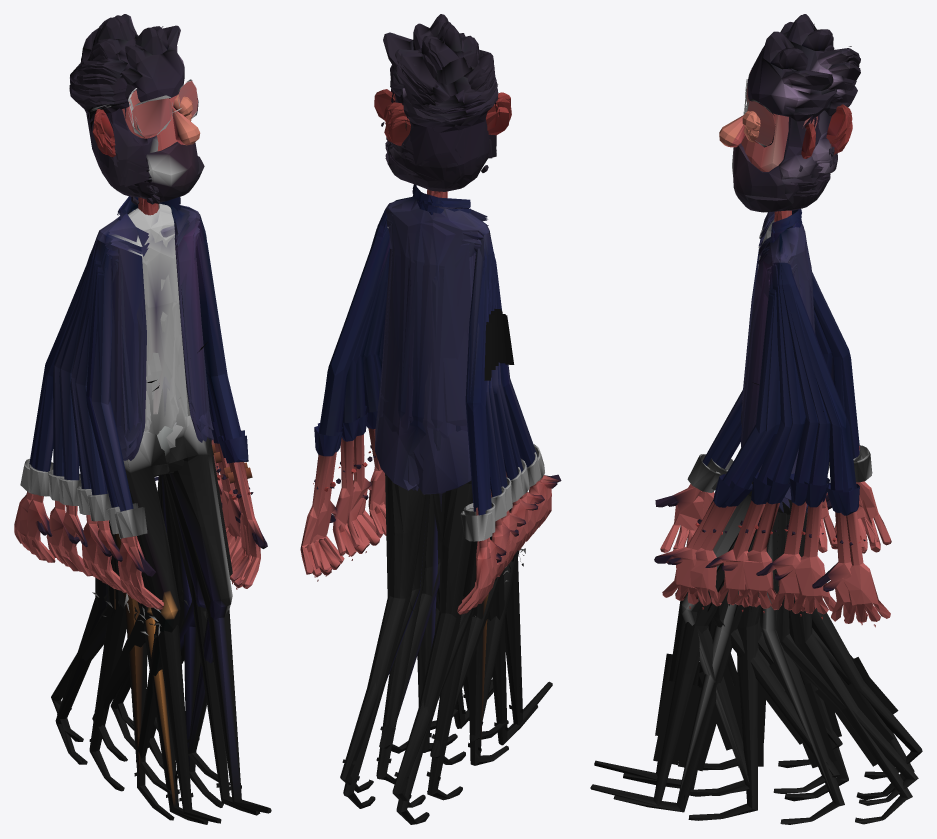
Rendered from walk-fancy.glb.
3 renders of one model, left to right at view 1: azimuth 30°, elevation 25°; view 2: azimuth 150°, elevation 25°; view 3: azimuth 270°, elevation 25°, orthographic. The views are drawn at different scales.
Parts seen in each view (by area): view 1: f2, f5, f0, f3, f6, f1, f7, f4; view 2: f7, f5, f3, f1, f2, f0, f4, f6; view 3: f0, f7, f3, f6, f1, f4, f5, f2.
Part boxes in pixels (bbox=[...]): f2: bbox=[70, 47, 232, 791]; f5: bbox=[70, 15, 223, 807]; f0: bbox=[27, 25, 257, 824]; f3: bbox=[55, 59, 271, 813]; f6: bbox=[46, 68, 241, 794]; f1: bbox=[58, 14, 240, 820]; f7: bbox=[14, 75, 267, 823]; f4: bbox=[51, 54, 260, 815]; f7: bbox=[343, 54, 552, 808]; f5: bbox=[347, 24, 538, 764]; f3: bbox=[300, 71, 561, 824]; f1: bbox=[363, 21, 525, 765]; f2: bbox=[332, 45, 544, 800]; f0: bbox=[340, 14, 537, 792]; f4: bbox=[311, 52, 557, 807]; f6: bbox=[373, 36, 525, 784]; f0: bbox=[623, 31, 918, 805]; f7: bbox=[594, 45, 912, 824]; f3: bbox=[590, 62, 914, 806]; f6: bbox=[678, 24, 860, 824]; f1: bbox=[689, 15, 858, 796]; f4: bbox=[613, 60, 922, 812]; f5: bbox=[688, 14, 859, 820]; f2: bbox=[680, 54, 859, 801].
Bounding box in the file's own units: 0.2449 × 0.9997 × 0.3821.
